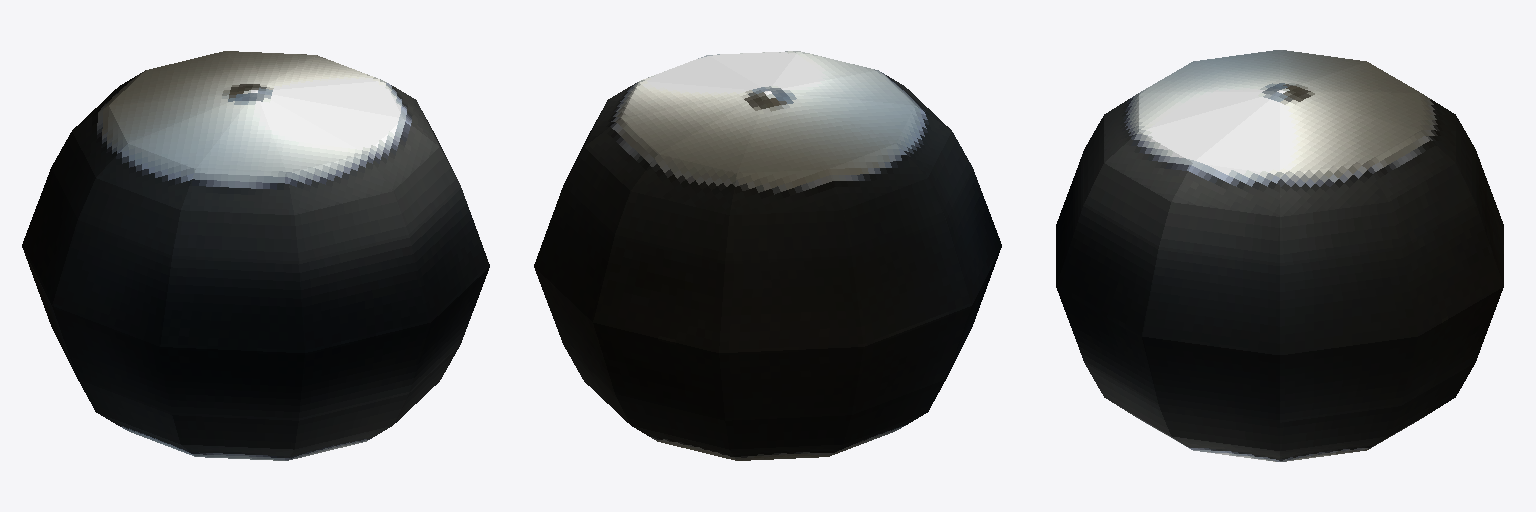
3 renders of one model, left to right at view 1: azimuth 30°, elevation 25°; view 2: azimuth 150°, elevation 25°; view 3: azimuth 270°, elevation 25°, orthographic.
Parts seen in each view (by area): view 1: CleanerBotA_WheelFront; view 2: CleanerBotA_WheelFront; view 3: CleanerBotA_WheelFront.
Boxes of the visible parts, x1=… form: CleanerBotA_WheelFront: x1=22, y1=51, x2=489, y2=460; CleanerBotA_WheelFront: x1=534, y1=51, x2=1001, y2=460; CleanerBotA_WheelFront: x1=1056, y1=50, x2=1503, y2=461.
Bounding box in the file's own units: 0.1754 × 0.1352 × 0.1668.
1 materials, 1 textured.